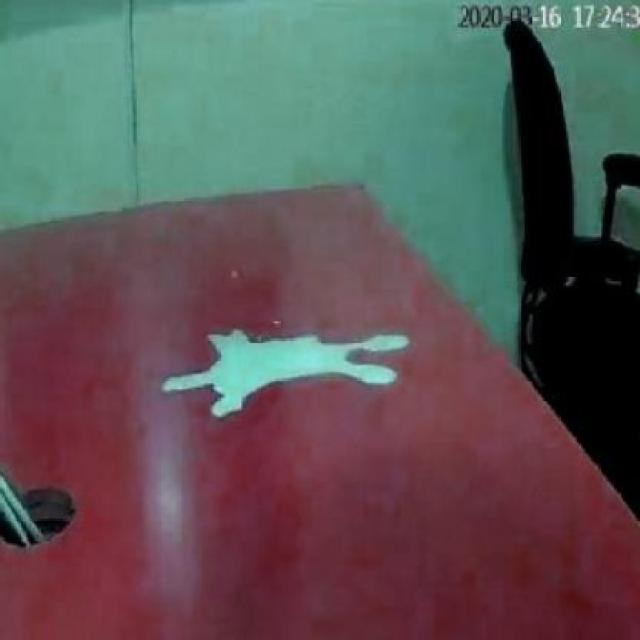spillage: (159, 330, 411, 421)
